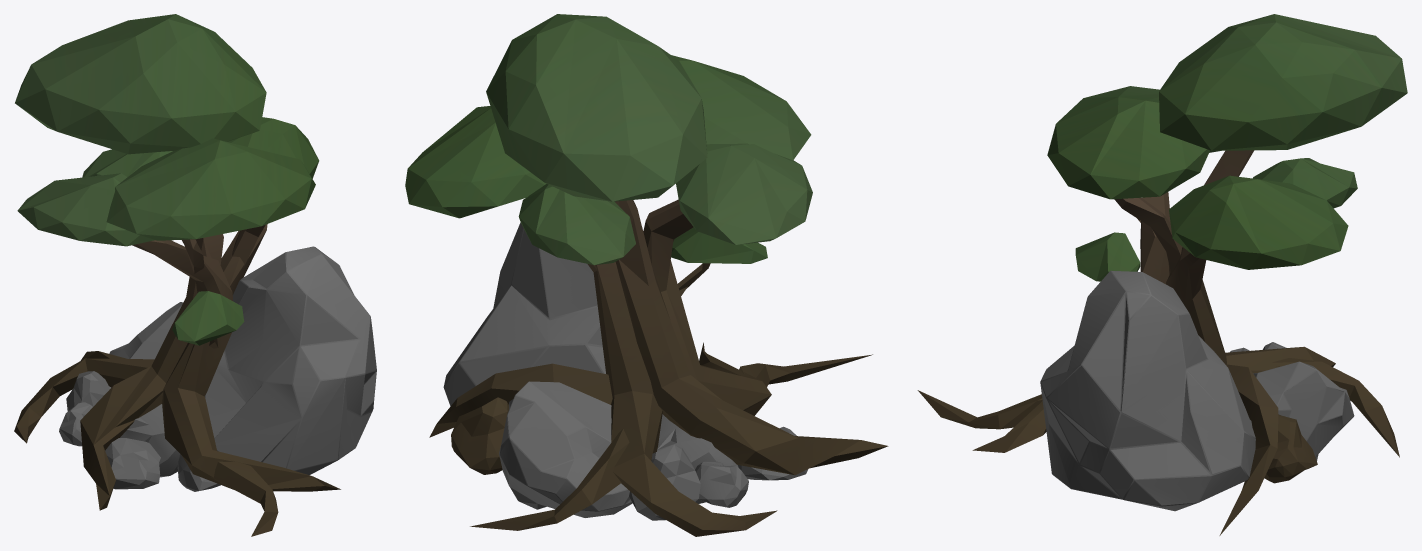
The model's file is Tree06.FBX.
The picture shows the model from 3 angles, left to right: view 1: azimuth 30°, elevation 25°; view 2: azimuth 150°, elevation 25°; view 3: azimuth 270°, elevation 25°; orthographic projection. The views are drawn at different scales.
Parts seen in each view (by area): view 1: Tree_05; view 2: Tree_05; view 3: Tree_05.
Part boxes in pixels (x1=…): Tree_05: x1=14, y1=14, x2=376, y2=536; Tree_05: x1=405, y1=14, x2=888, y2=536; Tree_05: x1=917, y1=14, x2=1407, y2=535.
Size of the model in its own units: 1606 by 2005 by 2017.
